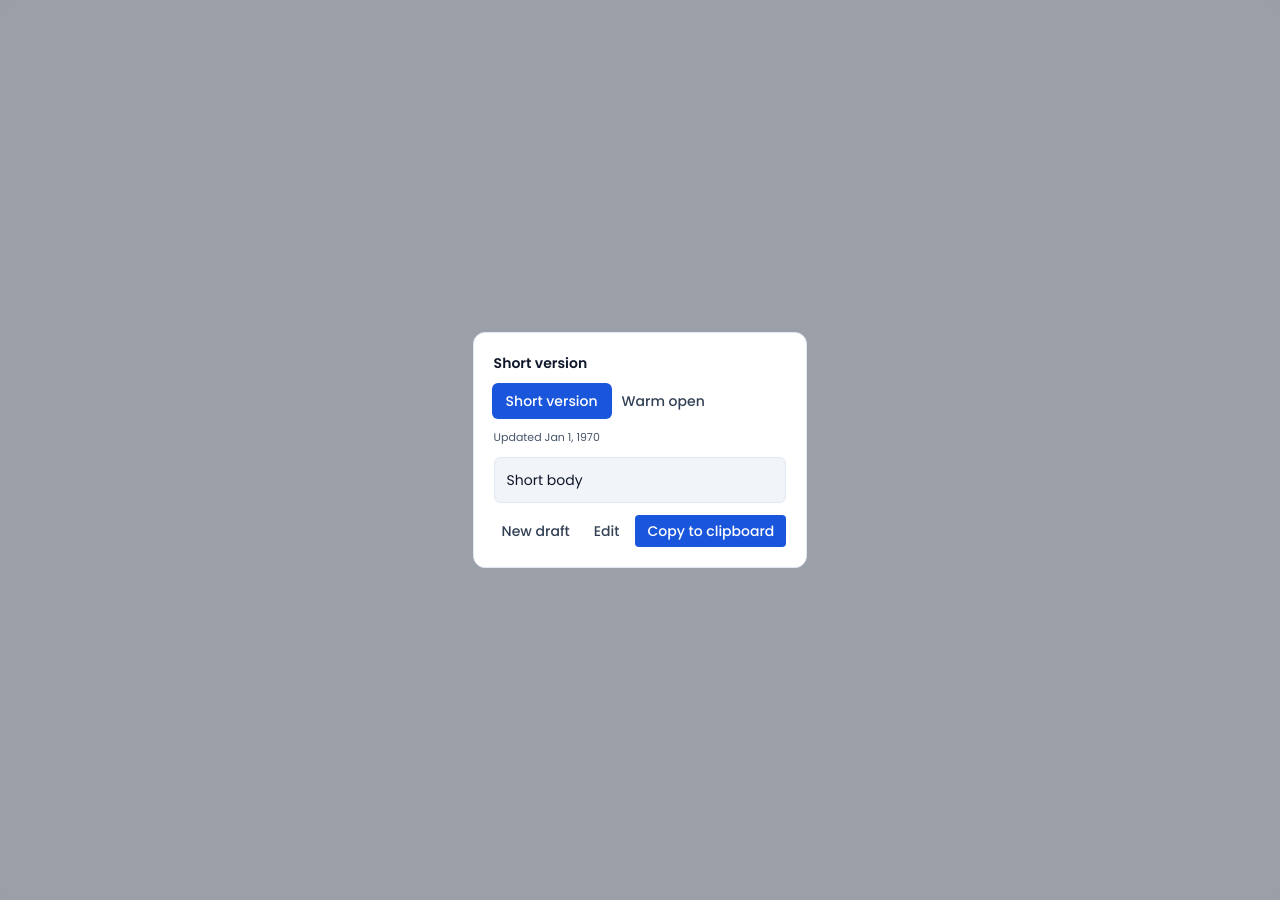
LetterRevealDialog › copies the SELECTED draft's full body, not the first one, once switched
Click the button "Warm open" at (663, 401), box [614,389,713,413]
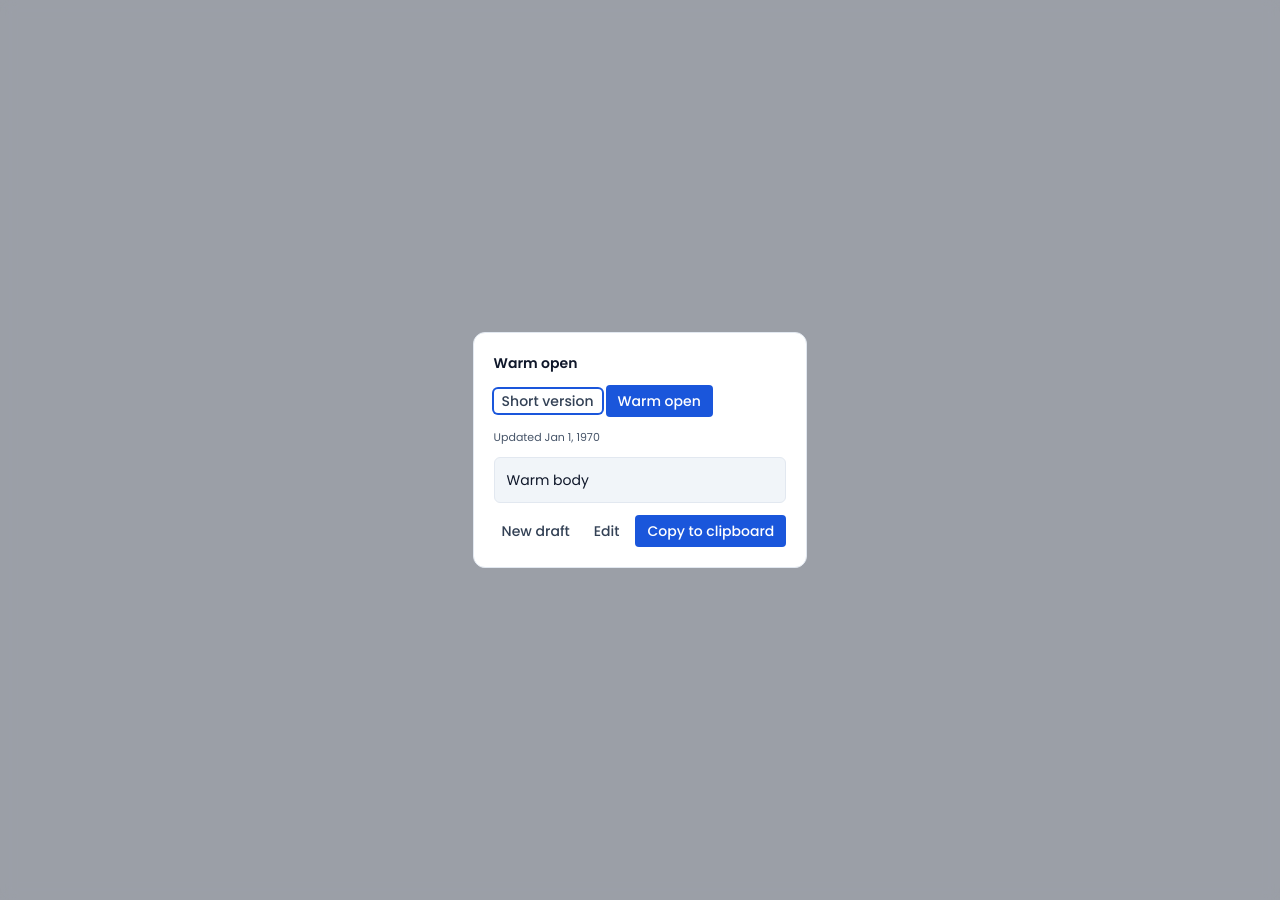
Click the button "Copy to clipboard" at (711, 531), box [636,515,786,547]
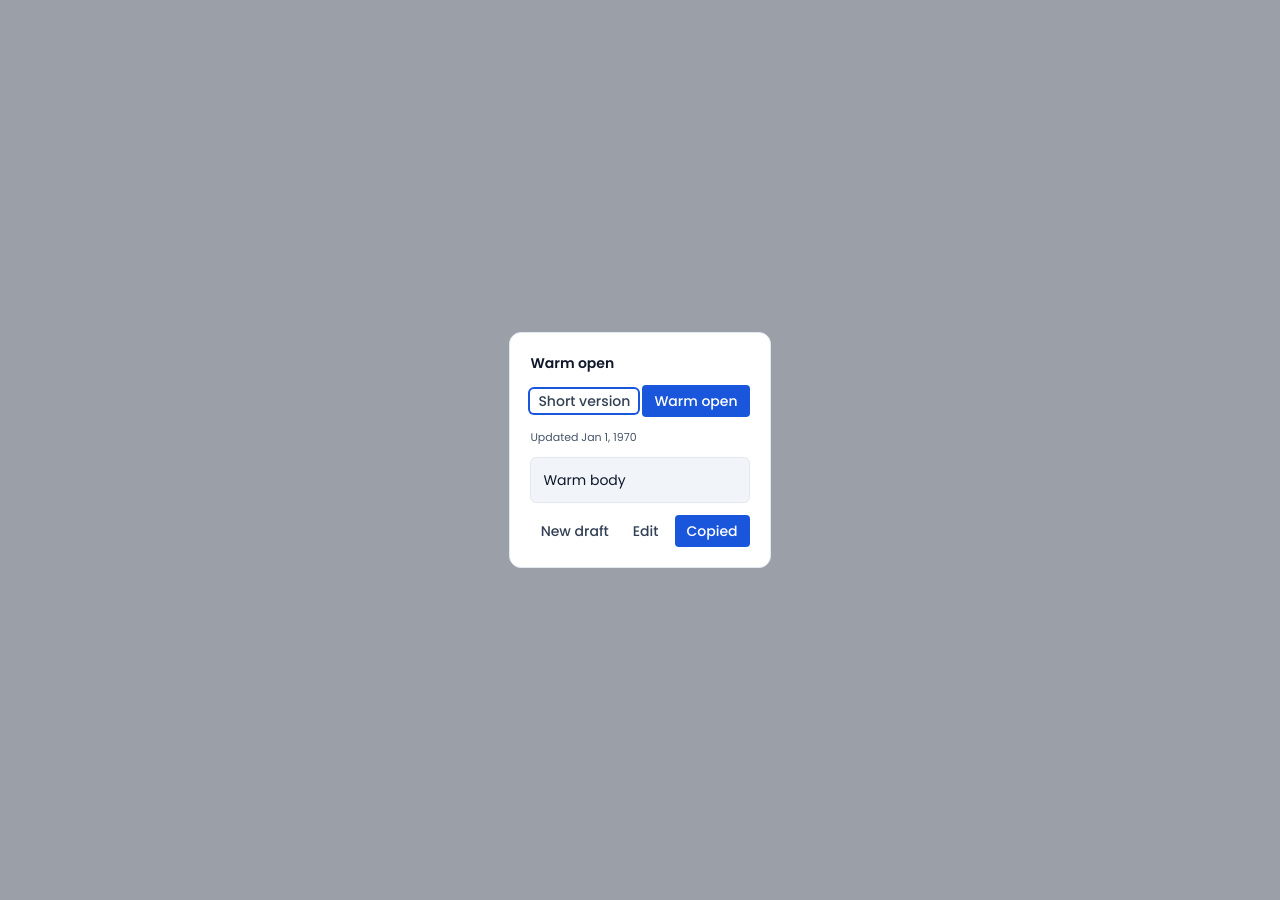
expect the text "Copied" is shown: met, box [674,515,750,547]
